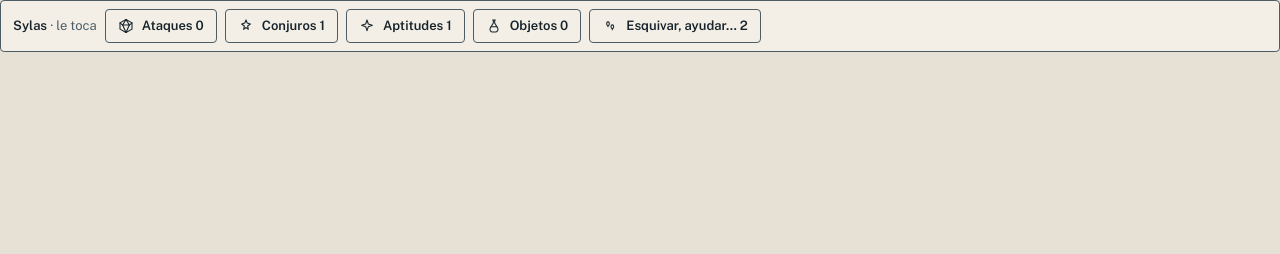
BarraDeAcciones — una fila apagada › lleva aria-disabled con su motivo traducido, asociado por aria-describedby
Step 1. Click the button with aria-label "Esquivar, ayudar…: 2" → point(675, 26), box x1=589 y1=9 x2=761 y2=42
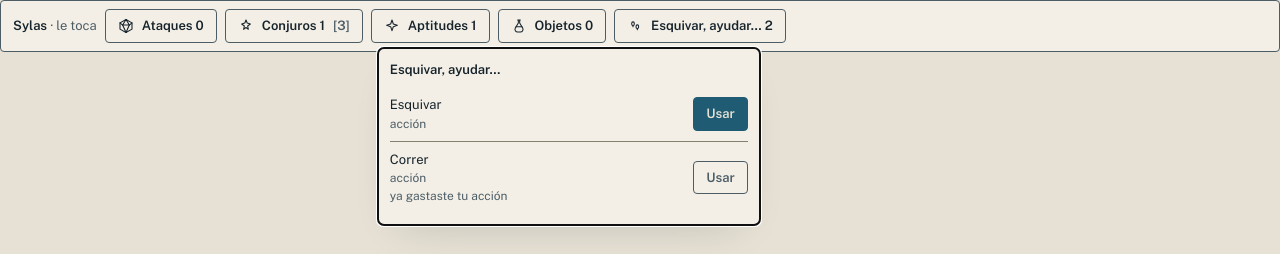
Result: the button "Usar" in the row of "Correr" is shown at x1=693 y1=160 x2=748 y2=194
Result: the text "ya gastaste tu acción" is shown at x1=390 y1=189 x2=508 y2=203
